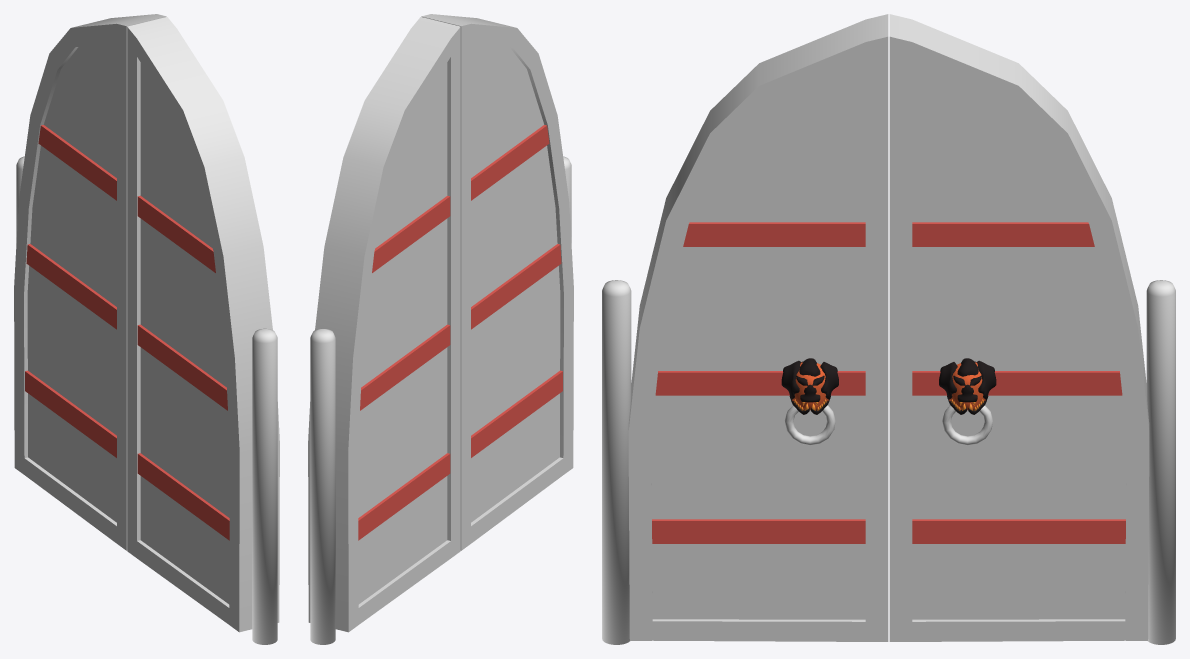
File: doorbossnobones.fbx
3 renders of one model, left to right at view 1: azimuth 30°, elevation 25°; view 2: azimuth 150°, elevation 25°; view 3: azimuth 270°, elevation 25°, orthographic. The views are drawn at different scales.
Visible parts, largest first — view 1: Cube.001, Cube.002, Cube, Cube.008, Cylinder, Cube.007, Cube.003; view 2: Cube.008, Cube, Cube.002, Cube.001, Cylinder.001, Cube.003, Cube.007; view 3: Cube.002, Cube, Cube.001, Cube.008, Cube.007, Cube.003, Cylinder, Cylinder.001, Cube.031, Cube.006, Torus, Torus.001.
Part boxes in pixels (<box>): Cube.001: <box>127,17,279,632</box>; Cube.002: <box>27,42,116,522</box>; Cube: <box>140,63,229,604</box>; Cube.008: <box>14,14,166,550</box>; Cylinder: <box>252,328,277,644</box>; Cube.007: <box>137,195,229,540</box>; Cube.003: <box>25,125,116,457</box>; Cube.008: <box>308,17,460,632</box>; Cube: <box>471,42,560,522</box>; Cube.002: <box>358,63,447,604</box>; Cube.001: <box>421,14,573,550</box>; Cylinder.001: <box>310,328,335,644</box>; Cube.003: <box>358,195,450,540</box>; Cube.007: <box>471,125,562,457</box>; Cube.002: <box>912,63,1126,619</box>; Cube: <box>651,63,865,619</box>; Cube.001: <box>628,14,888,641</box>; Cube.008: <box>889,14,1149,641</box>; Cube.007: <box>652,222,865,543</box>; Cube.003: <box>912,222,1125,543</box>; Cylinder: <box>602,280,631,644</box>; Cylinder.001: <box>1146,280,1175,644</box>; Cube.031: <box>781,358,838,414</box>; Cube.006: <box>939,358,996,414</box>; Torus: <box>784,405,835,445</box>; Torus.001: <box>942,405,993,445</box>.
Bounding box in the file's own units: 69 × 616 × 522.
